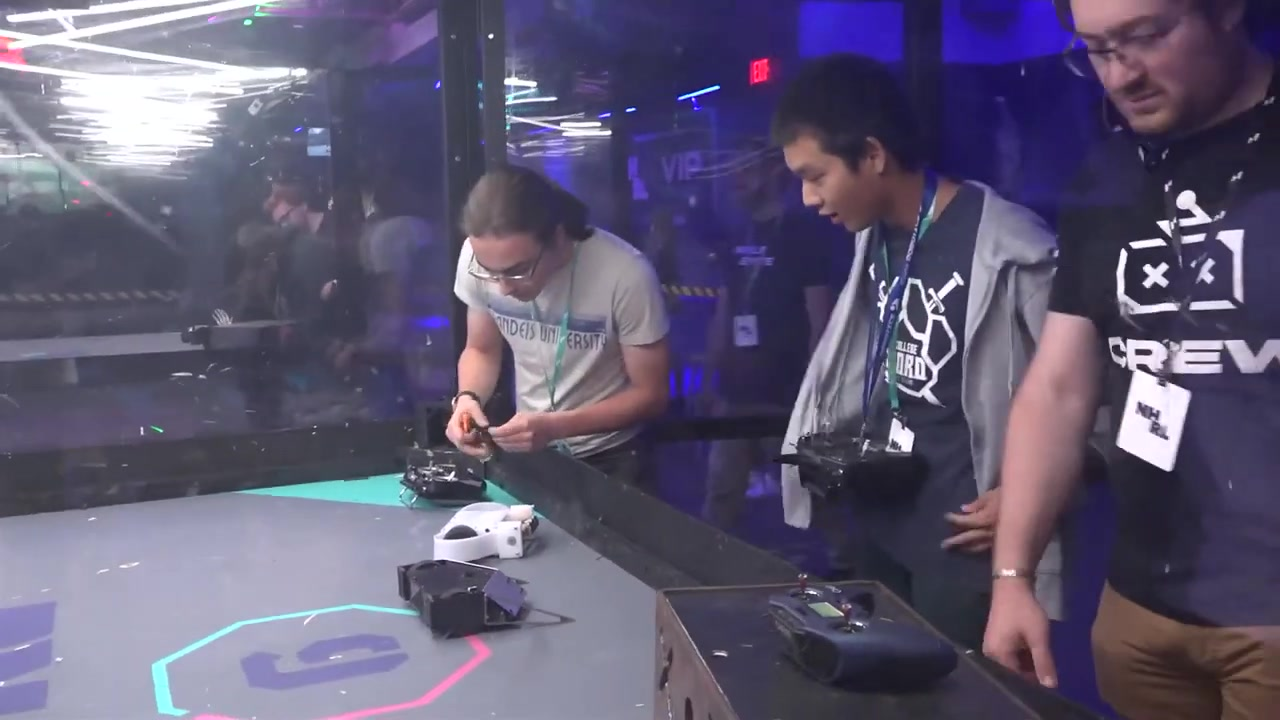combatbot: (396, 562, 533, 642), (437, 502, 544, 563)
